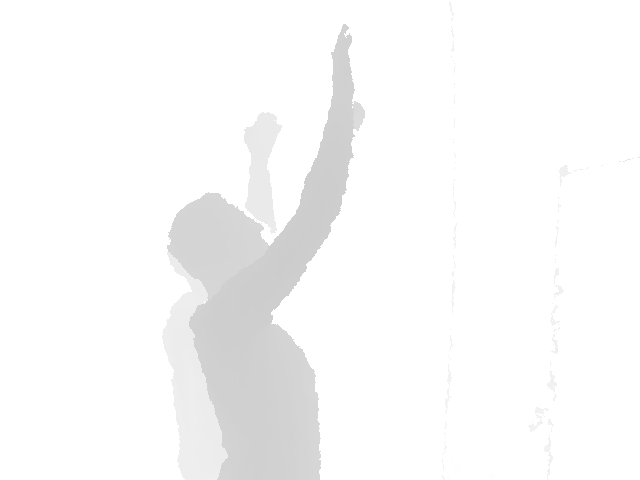hand: (242, 111, 282, 163), (330, 25, 355, 108)
head: (168, 195, 270, 290)
person: (166, 24, 357, 480), (160, 112, 282, 480)
